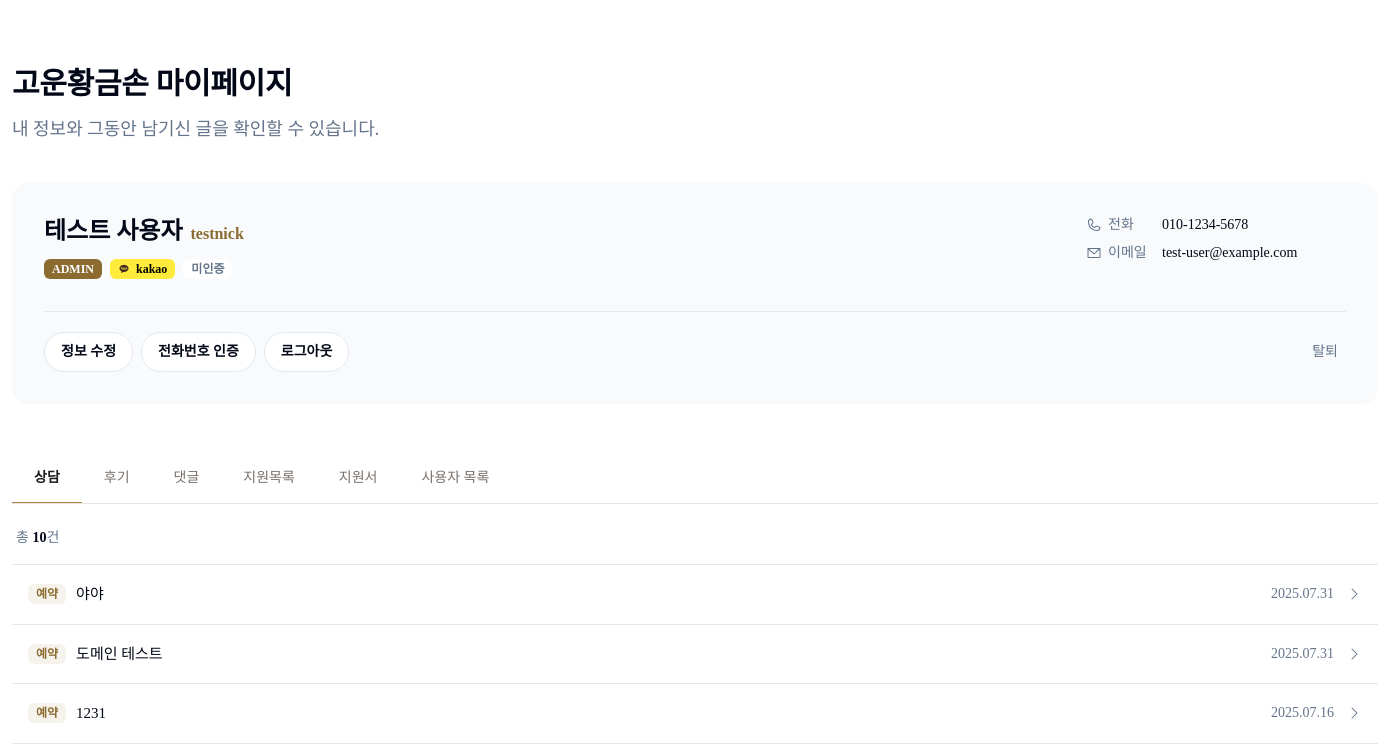
Test: Mypage 컴포넌트 테스트 › 관리자 계정일 때 산후관리사 지원목록이 올바르게 표시되는지 테스트
The image size is (1390, 748).
Click the tab "지원목록" at (269, 478), box top-left (221, 452), bottom-right (317, 504)
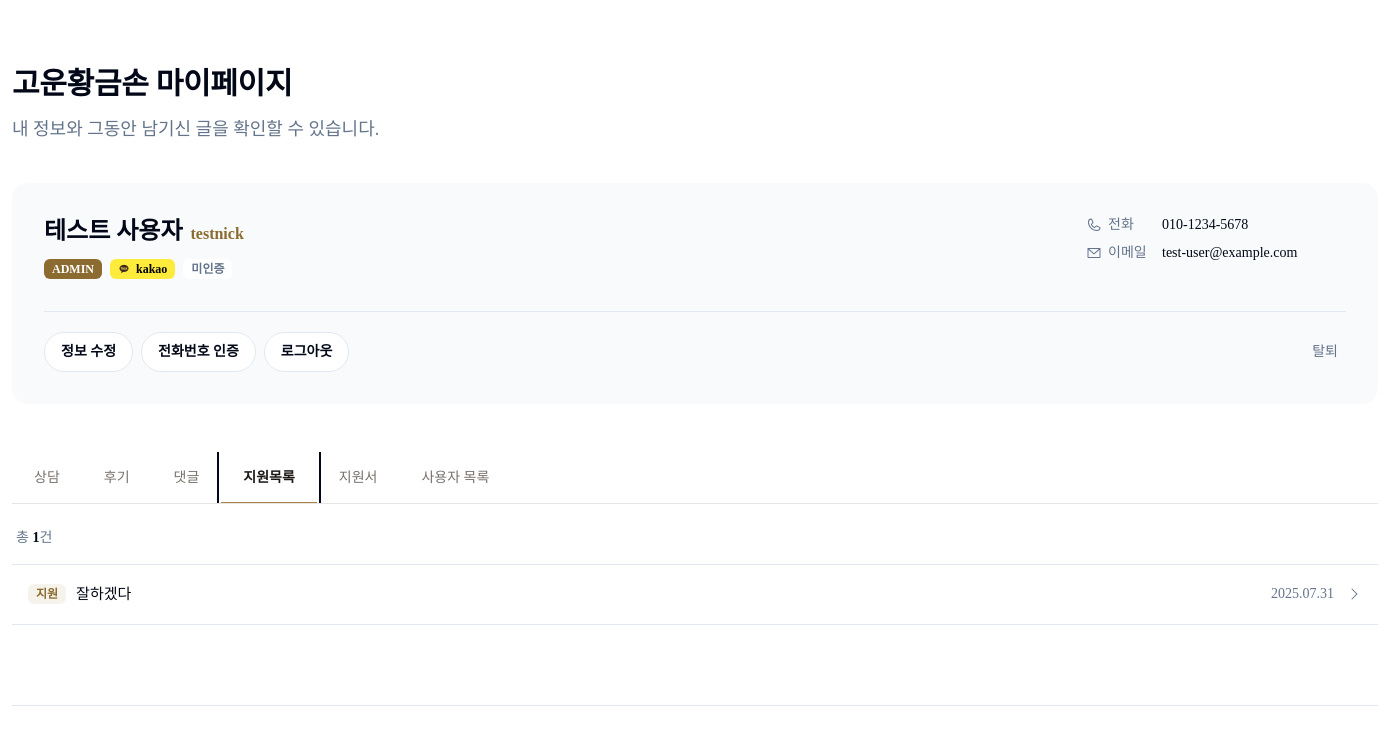
Check: the button with test id "apply_001" is shown, box top-left (12, 569), bottom-right (1378, 620)
